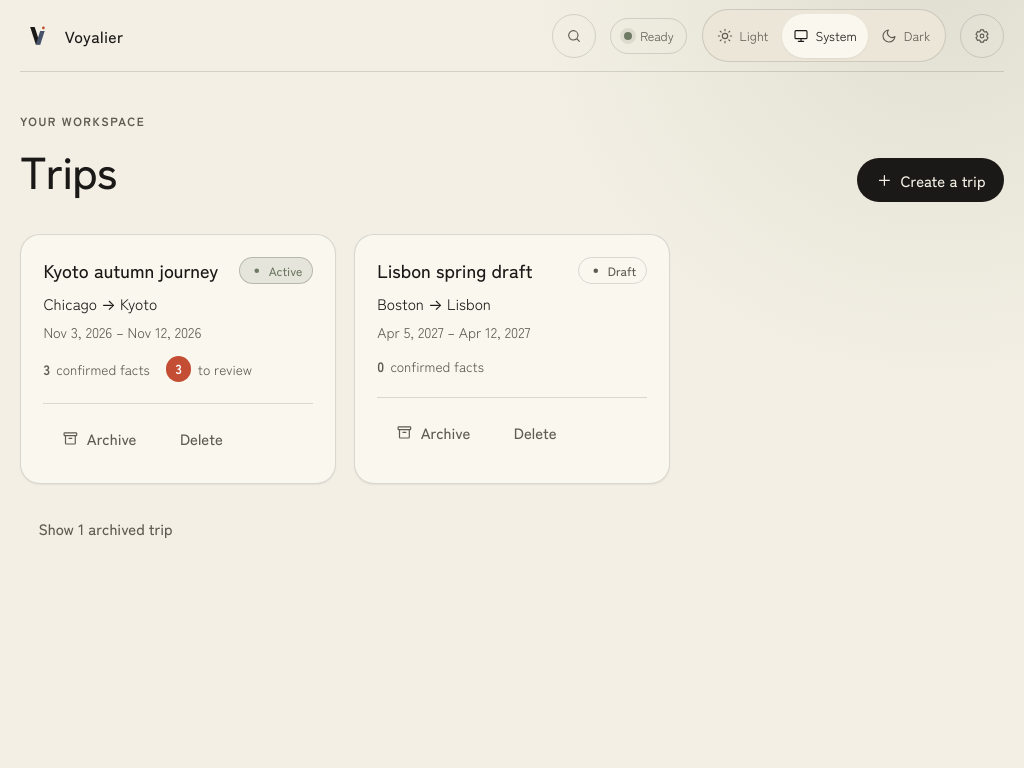
Scenario: concierge save recovery › retains a rejected Name in this trip draft and clears it only after a successful retry
Click the button with aria-label "Open Kyoto autumn journey": (131, 270) [43, 257, 218, 283]
(page scrolled)
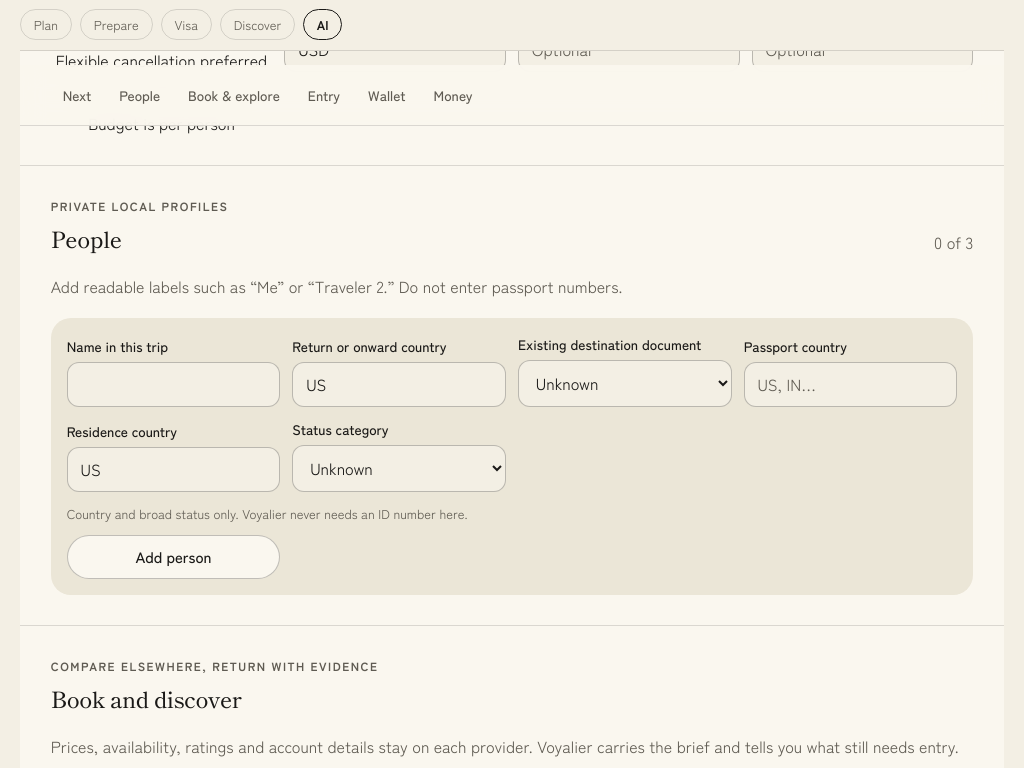
In the field labelled "Name in this trip": (174, 384) [67, 362, 280, 407], type "Me"
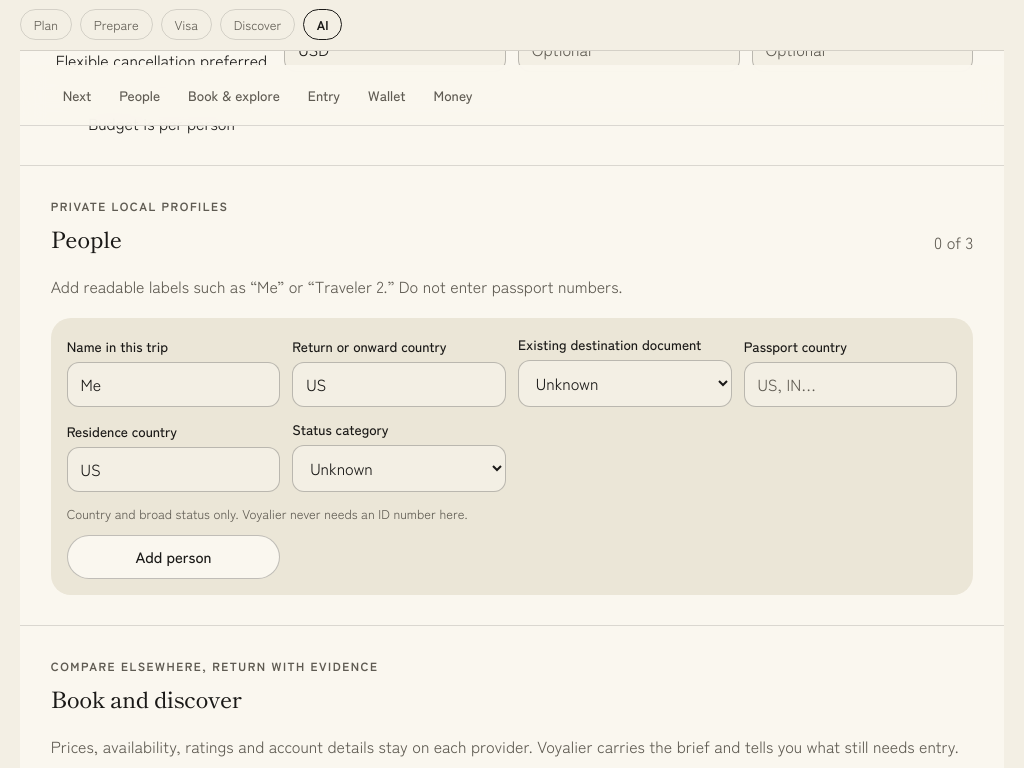
Submit the form "Name in this trip", box [51, 318, 973, 595]
(page scrolled)
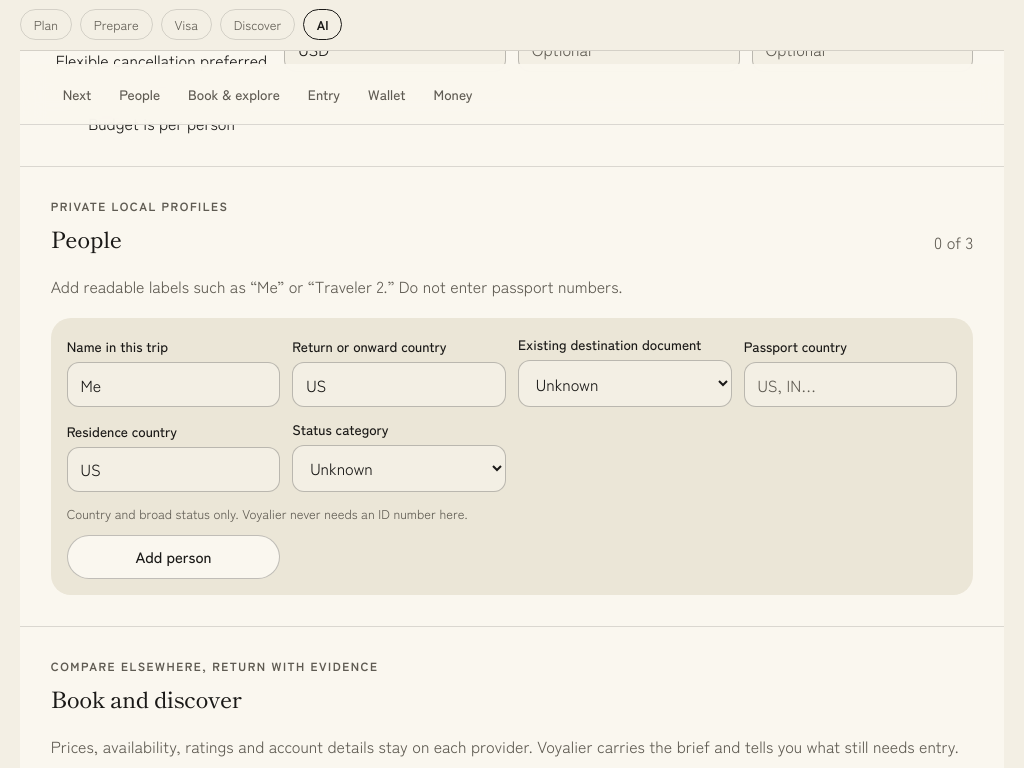
Submit the form "Name in this trip", box [51, 318, 973, 595]
(page scrolled)
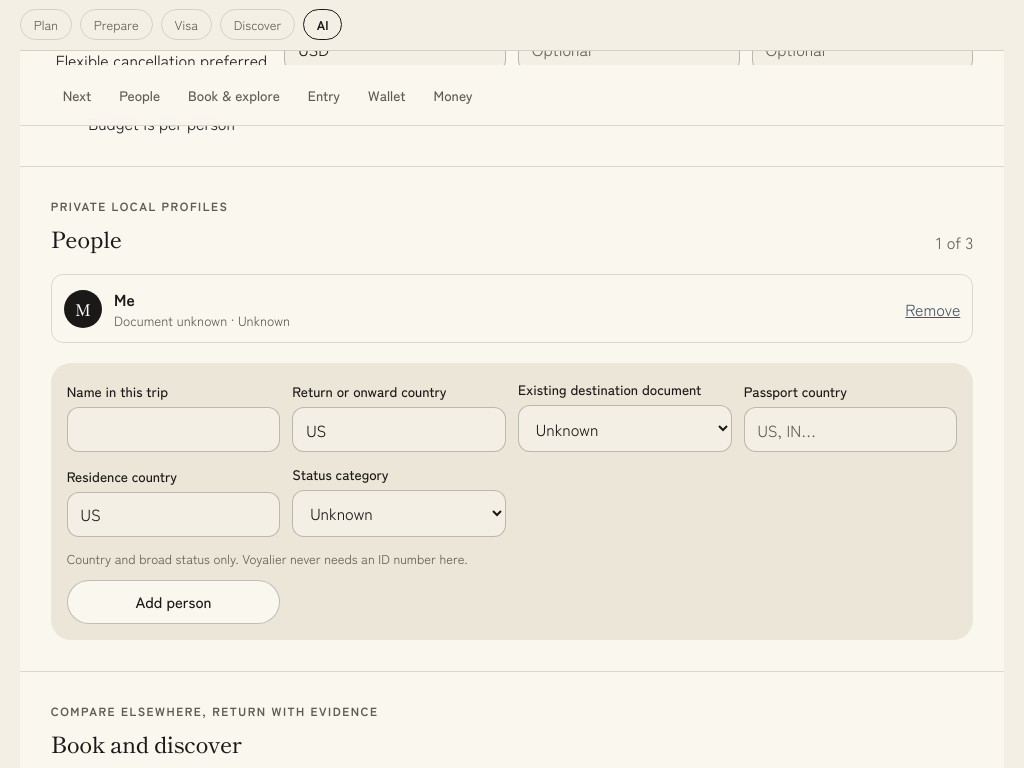
Now the button "Add person" is shown, box [67, 580, 280, 624]
Now the field labelled "Name in this trip" is empty, box [67, 407, 280, 452]
